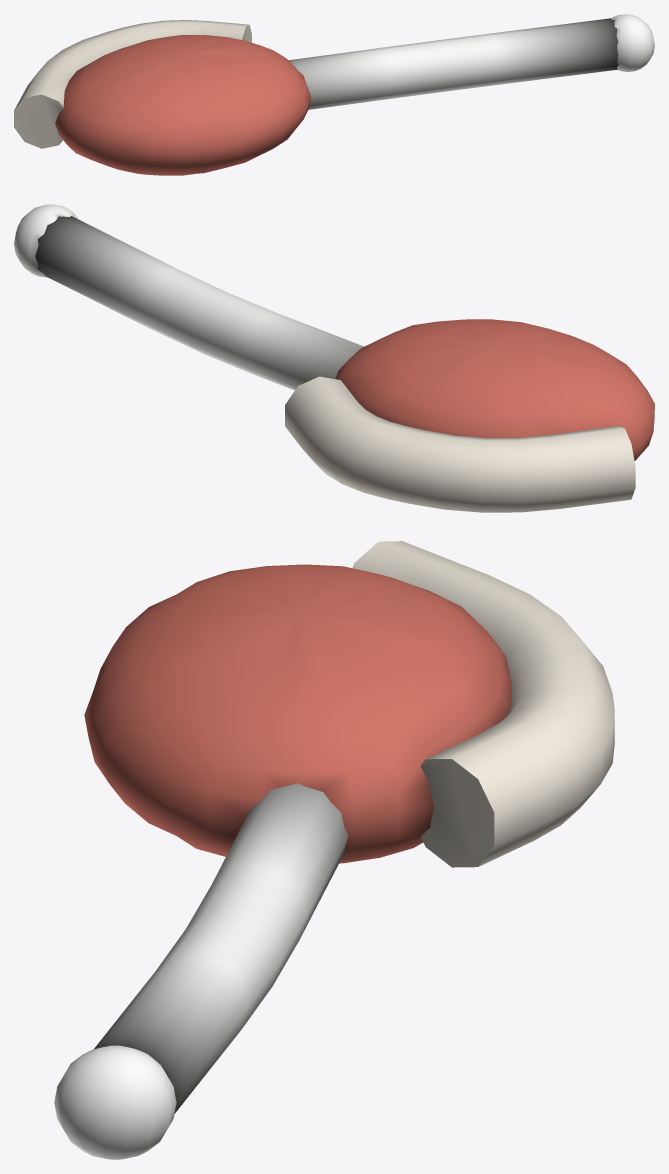
Rendered from food_lamb.glb.
3 renders of one model, top to bottom at view 1: azimuth 30°, elevation 25°; view 2: azimuth 150°, elevation 25°; view 3: azimuth 270°, elevation 25°, orthographic. The views are drawn at different scales.
Visible parts, largest first — view 1: PART; view 2: PART; view 3: PART.
Boxes of the visible parts, x1,y1,x2,y2 form: PART: [14, 14, 654, 175]; PART: [14, 204, 654, 512]; PART: [54, 541, 614, 1159].
Bounding box in the file's own units: 0.2116 × 0.0362 × 0.0916.
